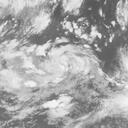cyclone: (24, 43, 98, 88)
